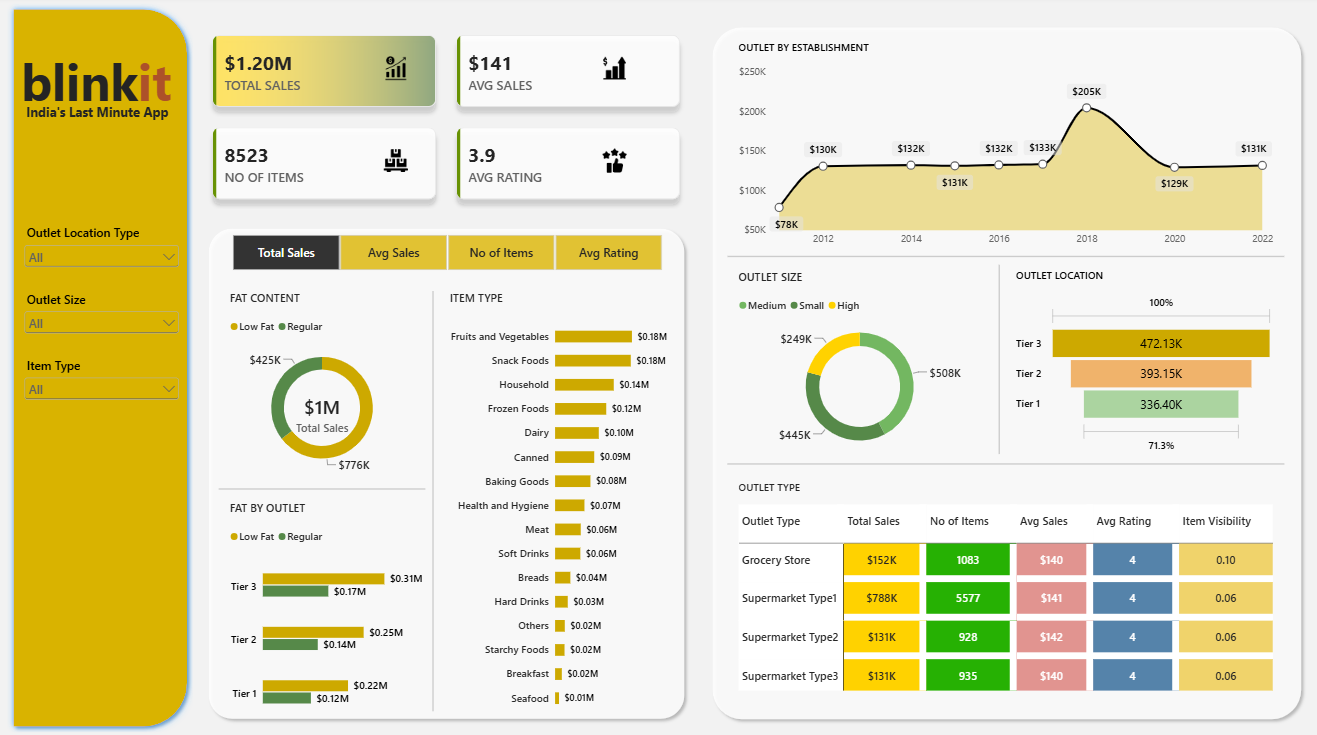

The dashboard page shown, as its layout file describes it:
{"tool":"powerbi","page":{"name":"Page 1","canvas":[1920,1080],"ordinal":0},"visuals":[{"type":"shape","box":[0,0,280.4,1080],"z":0},{"type":"textbox","box":[31,74.8,264.3,112.5],"z":1000},{"type":"textbox","box":[38.1,157,226.8,37.5],"z":2000},{"type":"cardVisual","fields":{"Data":["_Measure Table.Total Sales","_Measure Table.Avg Sales","_Measure Table.No of Iteams","_Measure Table.Avg Rating"]},"box":[294.6,41.1,708.9,269.6],"z":3000},{"type":"image","box":[557.1,87.5,35,35],"z":4000},{"type":"image","box":[875,87.5,35,35],"z":5000},{"type":"image","box":[557.1,221.4,35,35],"z":6000},{"type":"image","box":[875,221.4,35,35],"z":7000},{"type":"shape","box":[294.6,328.6,708.9,730.4],"z":8000},{"type":"slicer","fields":{"Values":["Parameter_Fields.Parameter_Fields"]},"box":[317.9,344.6,662.5,55],"z":9000},{"type":"donutChart","title":"FAT CONTENT","fields":{"Category":["BlinkIT Grocery Data.Item Fat Content"],"Y":["_Measure Table.Total Sales"]},"box":[317.9,412.5,300,305.4],"z":10000},{"type":"cardVisual","fields":{"Data":["_Measure Table.Total Sales"]},"box":[403.6,566.1,130.4,82.1],"z":11000},{"type":"clusteredBarChart","title":"FAT BY OUTLET ","fields":{"Category":["BlinkIT Grocery Data.Outlet Location Type"],"Series":["BlinkIT Grocery Data.Item Fat Content"],"Y":["_Measure Table.Total Sales"]},"box":[317.9,717.9,312.5,362.5],"z":12000},{"type":"shape","box":[317.9,705.4,300,23.2],"z":13000},{"type":"shape","box":[619.6,428.6,19.6,610.7],"z":14000},{"type":"barChart","title":"ITEM TYPE","fields":{"Category":["BlinkIT Grocery Data.Item Type"],"Y":["_Measure Table.Total Sales"]},"box":[637.5,412.5,348.2,646.4],"z":15000},{"type":"shape","box":[1025,35.7,873.2,1023.2],"z":16000},{"type":"lineChart","title":"OUTLET BY ESTABLISHMENT","fields":{"Category":["BlinkIT Grocery Data.Outlet Establishment Year"],"Y":["_Measure Table.Total Sales"]},"box":[1057.1,48.2,808.9,333.9],"z":17000},{"type":"shape","box":[1057.1,362.5,808.9,30.4],"z":18000},{"type":"donutChart","title":"OUTLET SIZE","fields":{"Category":["BlinkIT Grocery Data.Outlet Size"],"Y":["_Measure Table.Total Sales"]},"box":[1057.1,382.1,383.9,305.4],"z":19000},{"type":"shape","box":[1441.1,391.1,19.6,275],"z":20000},{"type":"funnel","title":"OUTLET LOCATION","fields":{"Category":["BlinkIT Grocery Data.Outlet Location Type"],"Y":["Sum(BlinkIT Grocery Data.Sales)"]},"box":[1460.7,382.1,405.4,300],"z":21000},{"type":"shape","box":[1057.1,664.3,808.9,30.4],"z":22000},{"type":"pivotTable","title":"OUTLET TYPE","fields":{"Rows":["BlinkIT Grocery Data.Outlet Type"],"Values":["_Measure Table.Total Sales","_Measure Table.No of Items","_Measure Table.Avg Sales","_Measure Table.Avg Rating","Avg(BlinkIT Grocery Data.Item Visibility)"]},"box":[1057.1,687.5,808.9,351.8],"z":23000},{"type":"slicer","fields":{"Values":["BlinkIT Grocery Data.Outlet Location Type"]},"box":[30.9,332.2,233.9,83.9],"z":24000},{"type":"slicer","fields":{"Values":["BlinkIT Grocery Data.Outlet Size"]},"box":[30.9,428.6,233.9,83.9],"z":25000},{"type":"slicer","fields":{"Values":["BlinkIT Grocery Data.Item Type"]},"box":[30.9,525.1,233.9,83.9],"z":26000}]}

Visuals, with their boxes in screenshot pixels (x1, y1, x2, y2), scaled from the page's 1920x1080 canvas onto the 1317x735 screenshot:
shape: 0 0 192 734
textbox: 21 51 203 127
textbox: 26 107 182 132
cardVisual - _Measure Table.Total Sales x _Measure Table.Avg Sales: 202 28 688 211
image: 382 60 406 83
image: 600 60 624 83
image: 382 151 406 174
image: 600 151 624 174
shape: 202 224 688 721
slicer - Parameter_Fields.Parameter_Fields: 218 235 672 272
"FAT CONTENT" donutChart: 218 281 424 489
cardVisual - _Measure Table.Total Sales: 277 385 366 441
"FAT BY OUTLET " clusteredBarChart: 218 489 432 734
shape: 218 480 424 496
shape: 425 292 438 707
"ITEM TYPE" barChart: 437 281 676 721
shape: 703 24 1302 721
"OUTLET BY ESTABLISHMENT" lineChart: 725 33 1280 260
shape: 725 247 1280 267
"OUTLET SIZE" donutChart: 725 260 988 468
shape: 989 266 1002 453
"OUTLET LOCATION" funnel: 1002 260 1280 464
shape: 725 452 1280 473
"OUTLET TYPE" pivotTable: 725 468 1280 707
slicer - BlinkIT Grocery Data.Outlet Location Type: 21 226 182 283
slicer - BlinkIT Grocery Data.Outlet Size: 21 292 182 349
slicer - BlinkIT Grocery Data.Item Type: 21 357 182 414
